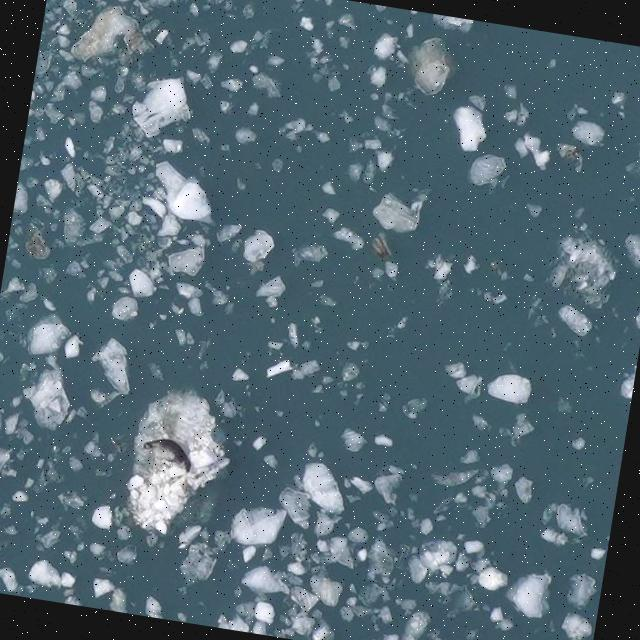seal: (142, 438, 189, 473)
